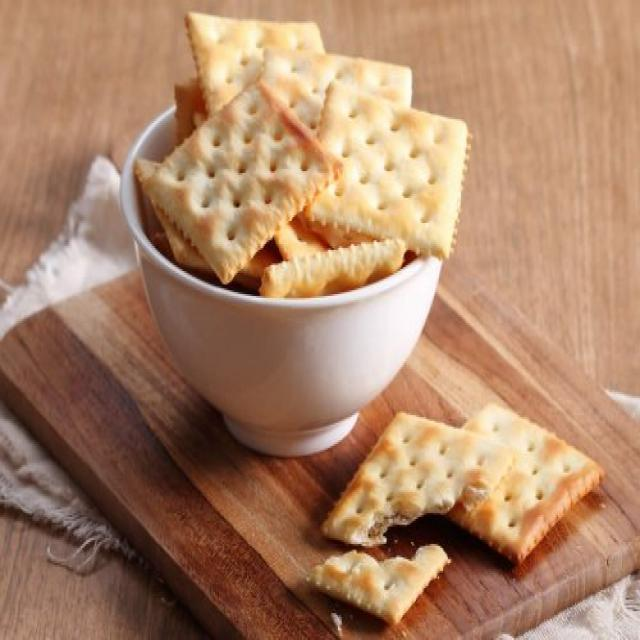Cracker: (313, 400, 500, 614), (158, 75, 328, 281), (304, 75, 482, 265), (442, 388, 610, 566)
